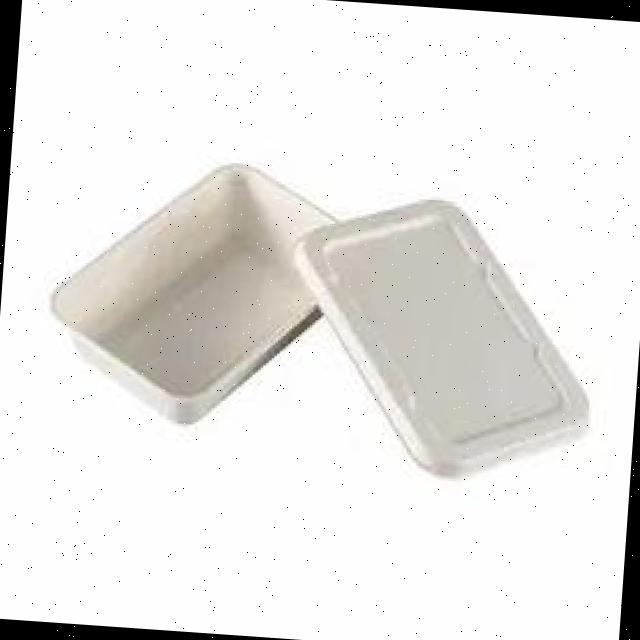styrofoam: (276, 185, 605, 487), (39, 145, 344, 433)
